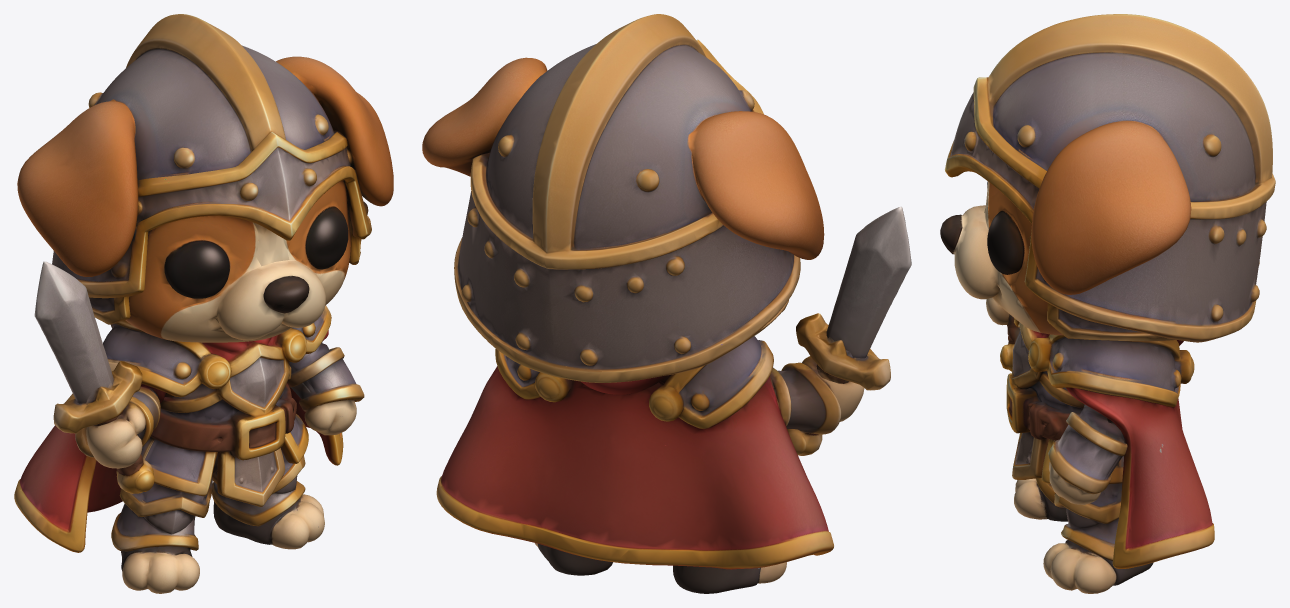
Rendered from warrior.glb.
3 renders of one model, left to right at view 1: azimuth 30°, elevation 25°; view 2: azimuth 150°, elevation 25°; view 3: azimuth 270°, elevation 25°, orthographic. The views are drawn at different scales.
Visible parts, largest first — view 1: tripo_part_0, tripo_part_1, tripo_part_3, tripo_part_5, tripo_part_2, tripo_part_12, tripo_part_6, tripo_part_9, tripo_part_10, tripo_part_8, tripo_part_13, tripo_part_4 (+3 smaller); view 2: tripo_part_0, tripo_part_2, tripo_part_5, tripo_part_1, tripo_part_12, tripo_part_6, tripo_part_8, tripo_part_11, tripo_part_4, tripo_part_13, tripo_part_14; view 3: tripo_part_0, tripo_part_6, tripo_part_1, tripo_part_2, tripo_part_3, tripo_part_10, tripo_part_13, tripo_part_7, tripo_part_4, tripo_part_14.
Part boxes in pixels (x1=…): tripo_part_0: x1=52, y1=14, x2=371, y2=324; tripo_part_1: x1=103, y1=305, x2=331, y2=506; tripo_part_3: x1=125, y1=180, x2=350, y2=342; tripo_part_5: x1=17, y1=99, x2=140, y2=276; tripo_part_2: x1=14, y1=330, x2=343, y2=552; tripo_part_12: x1=34, y1=261, x2=113, y2=403; tripo_part_6: x1=276, y1=56, x2=393, y2=206; tripo_part_9: x1=111, y1=476, x2=212, y2=551; tripo_part_10: x1=287, y1=342, x2=364, y2=435; tripo_part_8: x1=75, y1=386, x2=160, y2=468; tripo_part_13: x1=213, y1=494, x2=324, y2=549; tripo_part_4: x1=121, y1=546, x2=199, y2=593; tripo_part_0: x1=454, y1=14, x2=800, y2=382; tripo_part_2: x1=436, y1=366, x2=833, y2=569; tripo_part_5: x1=687, y1=111, x2=824, y2=259; tripo_part_1: x1=495, y1=336, x2=773, y2=429; tripo_part_12: x1=826, y1=206, x2=911, y2=358; tripo_part_6: x1=422, y1=57, x2=547, y2=176; tripo_part_8: x1=770, y1=356, x2=864, y2=434; tripo_part_11: x1=796, y1=313, x2=890, y2=390; tripo_part_4: x1=673, y1=562, x2=786, y2=593; tripo_part_13: x1=535, y1=543, x2=612, y2=575; tripo_part_14: x1=787, y1=429, x2=822, y2=455; tripo_part_0: x1=945, y1=14, x2=1275, y2=342; tripo_part_6: x1=1031, y1=121, x2=1191, y2=294; tripo_part_1: x1=1006, y1=318, x2=1194, y2=484; tripo_part_2: x1=1066, y1=387, x2=1214, y2=568; tripo_part_3: x1=940, y1=181, x2=1062, y2=335; tripo_part_10: x1=1048, y1=404, x2=1127, y2=504; tripo_part_13: x1=1043, y1=540, x2=1153, y2=593; tripo_part_7: x1=1054, y1=483, x2=1122, y2=560; tripo_part_4: x1=1014, y1=478, x2=1067, y2=521; tripo_part_14: x1=1000, y1=314, x2=1020, y2=371.
Bounding box in the file's own units: 0.7827 × 0.9793 × 0.5571.
Materials: 16 (16 with a texture image).
